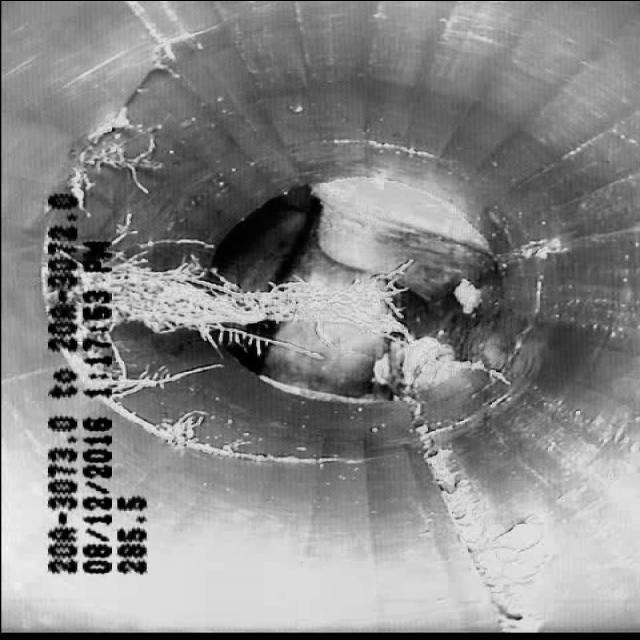Fracture: (396, 416, 550, 612), (68, 52, 193, 164)
